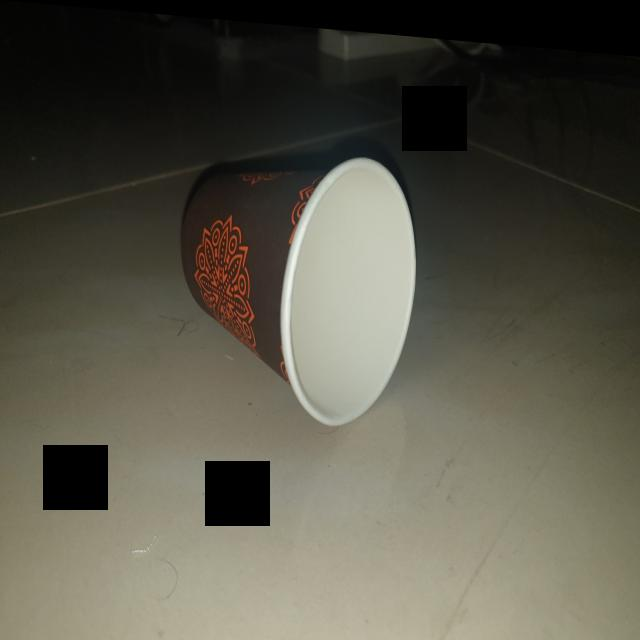cups: (176, 127, 424, 436)
